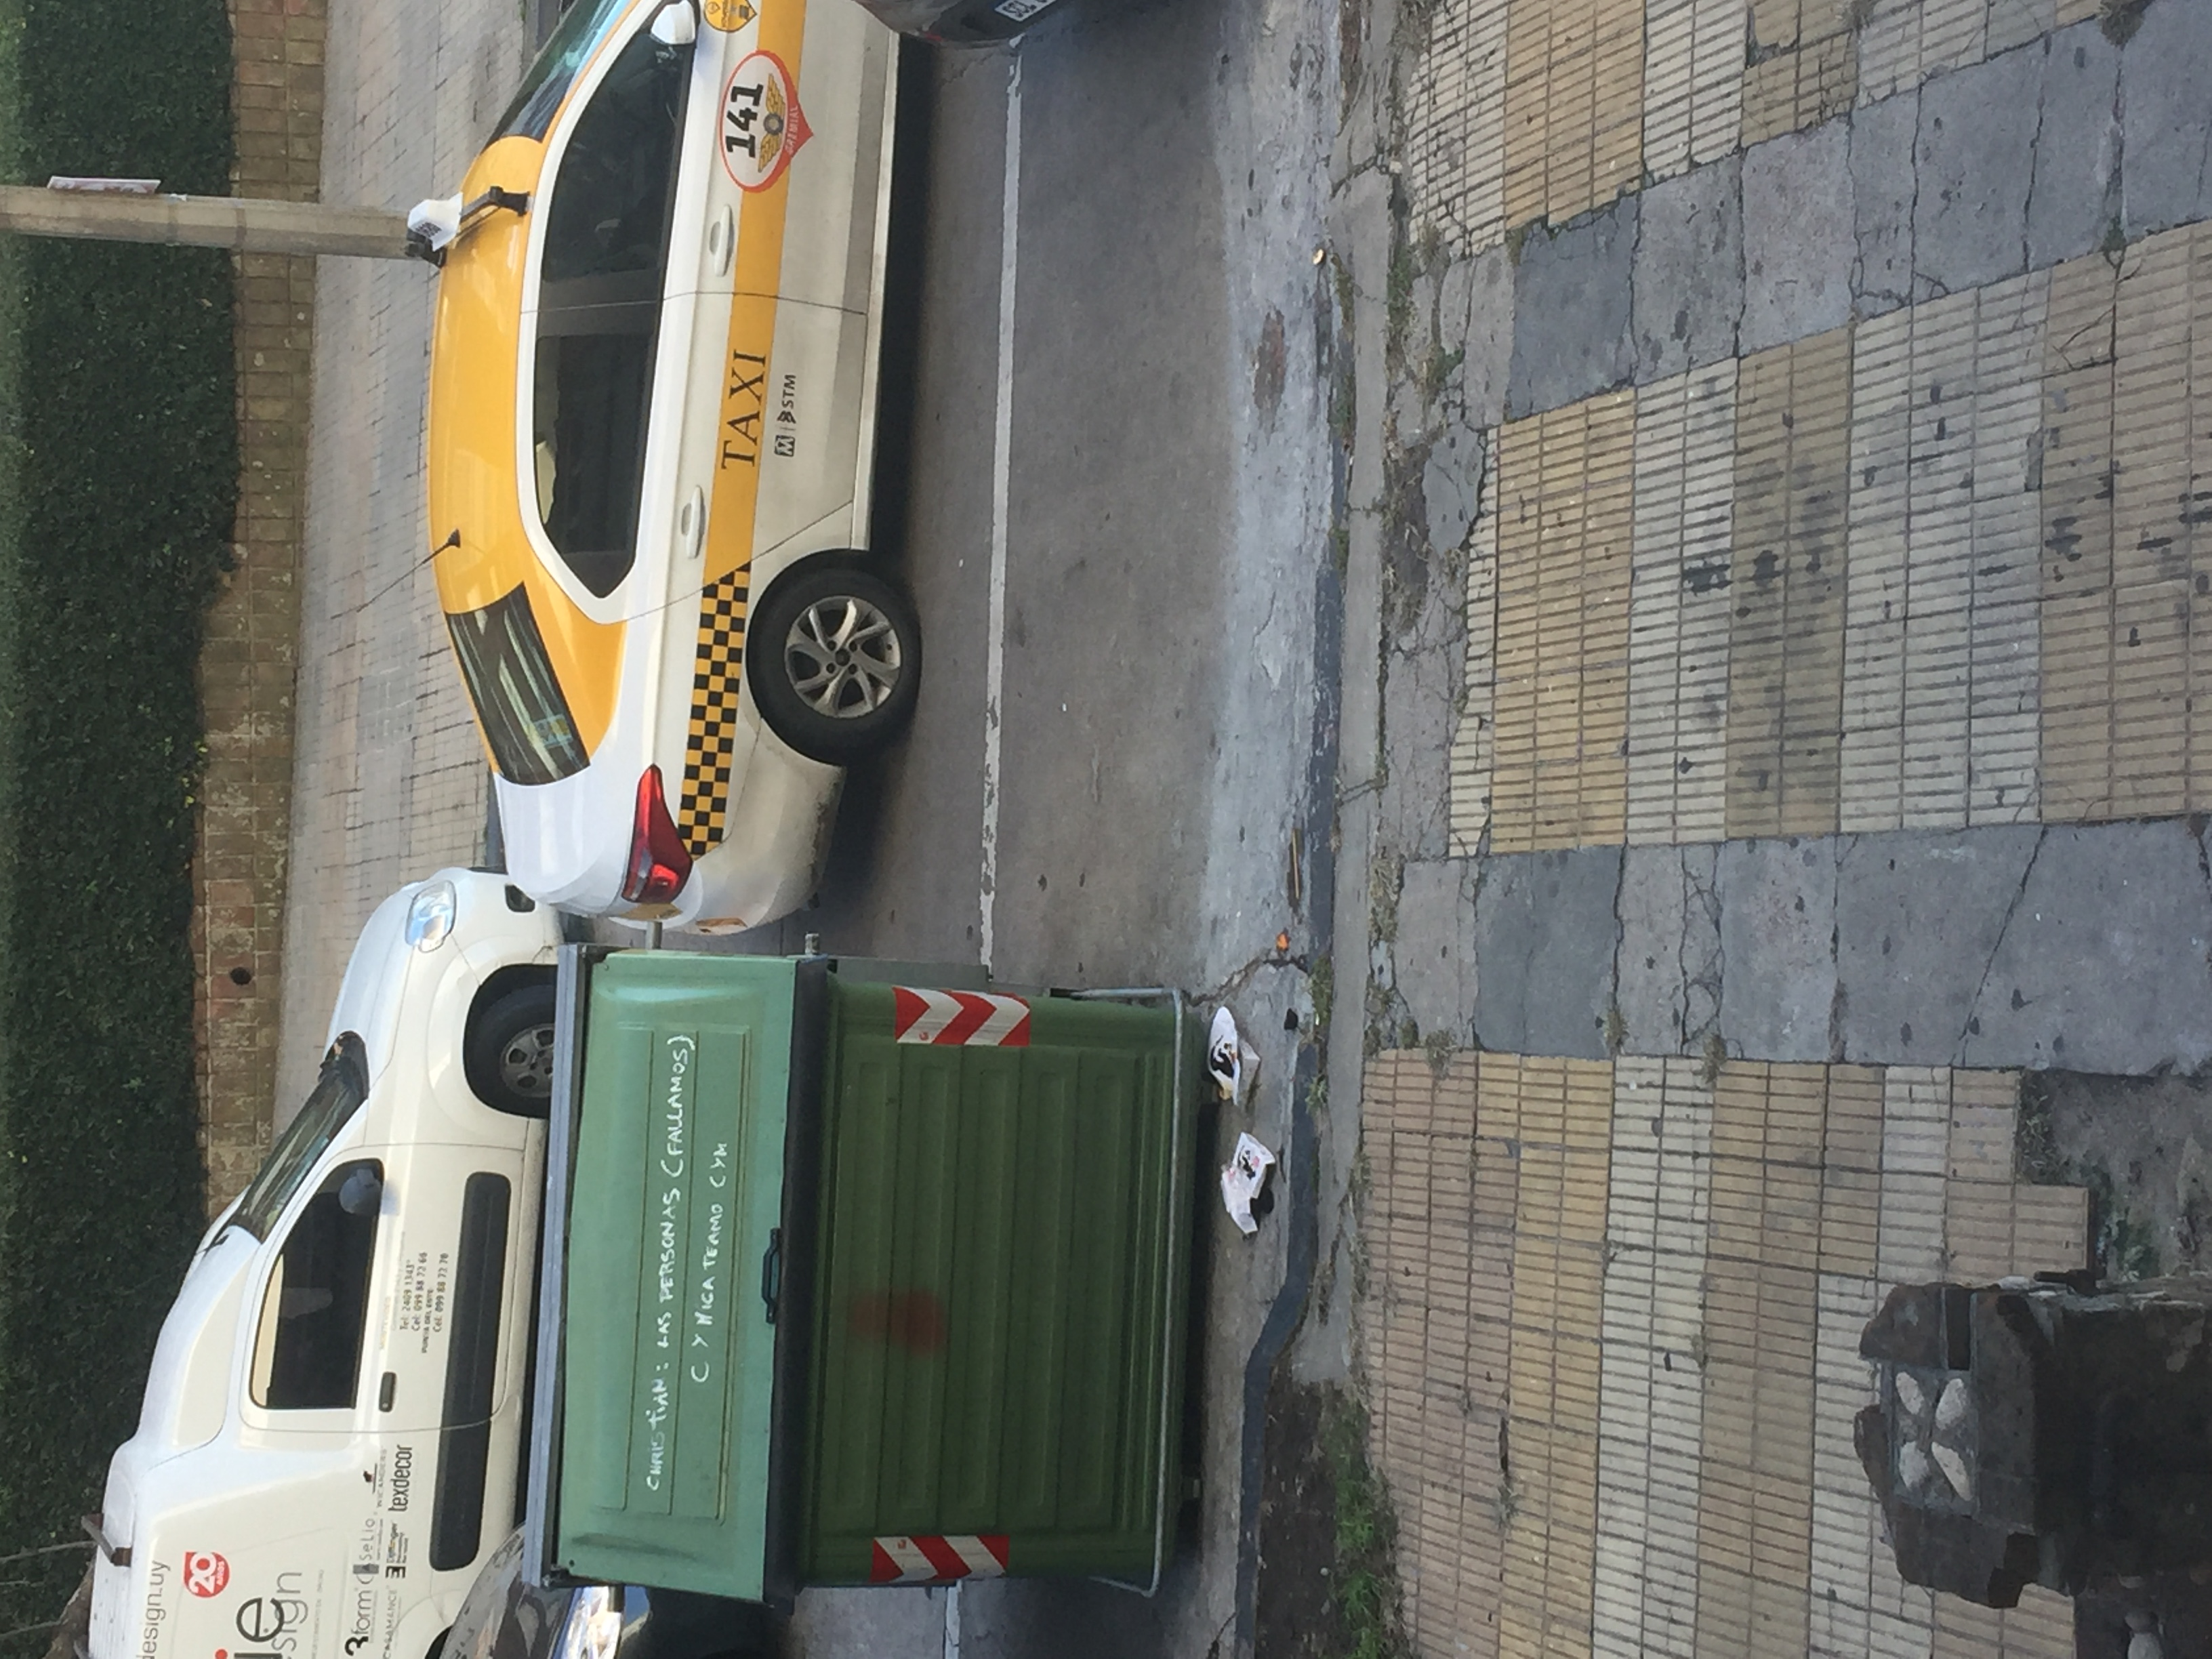container: (536, 939, 1204, 1598)
